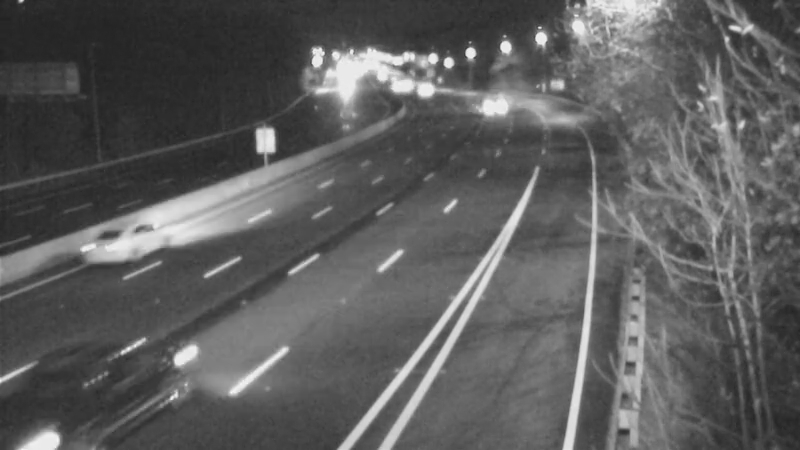vehicle: (1, 354, 95, 450), (69, 201, 149, 281), (397, 63, 447, 113), (468, 78, 518, 128)
